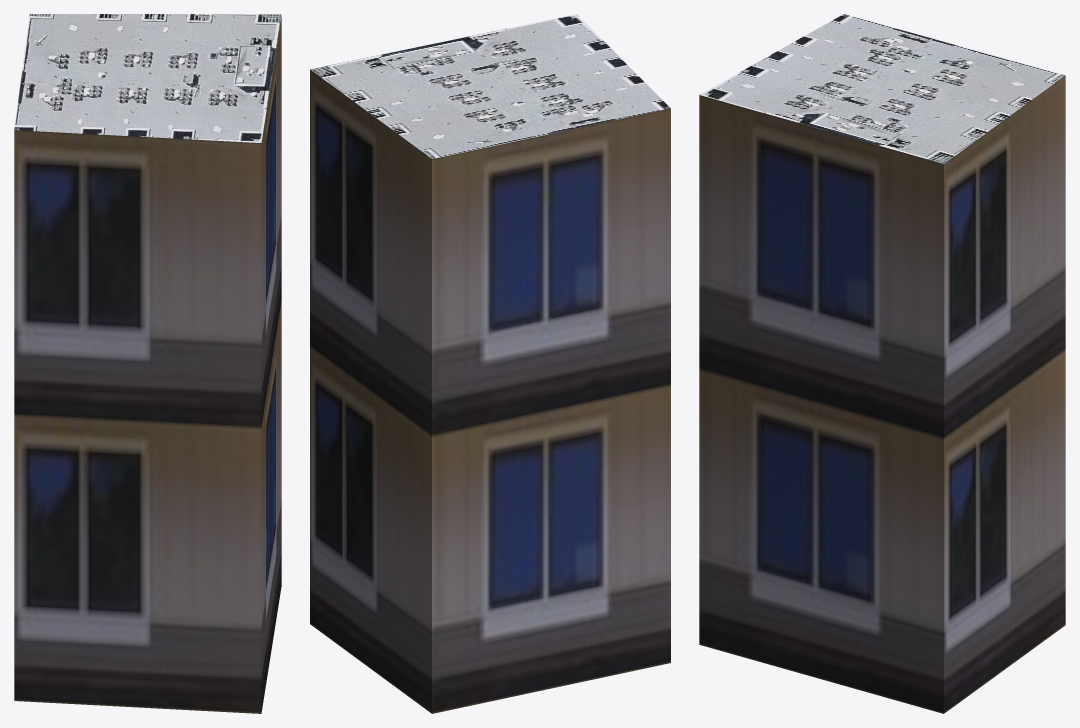
Rendered from ResTex__3872.fbx.
3 views of the same model, side by side, from view 1: azimuth 30°, elevation 25°; view 2: azimuth 150°, elevation 25°; view 3: azimuth 270°, elevation 25° (orthographic). The views are drawn at different scales.
Parts seen in each view (by area): view 1: CityEngineMaterial_5_m, CityEngineMaterial_2_m; view 2: CityEngineMaterial_5_m, CityEngineMaterial_2_m; view 3: CityEngineMaterial_5_m, CityEngineMaterial_2_m.
Boxes of the visible parts, x1,y1,x2,y2 form: CityEngineMaterial_5_m: (14,16,281,713); CityEngineMaterial_2_m: (14,14,281,142); CityEngineMaterial_5_m: (310,69,670,713); CityEngineMaterial_2_m: (310,14,670,158); CityEngineMaterial_5_m: (699,76,1065,713); CityEngineMaterial_2_m: (699,14,1065,163).
Size of the model in its own units: 3.51 by 6 by 3.63.
Materials: 2 (2 with a texture image).
